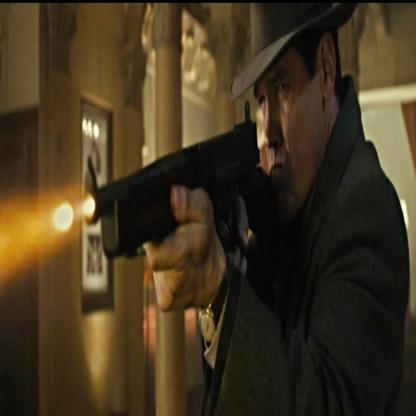Gun: (79, 72, 286, 400)
